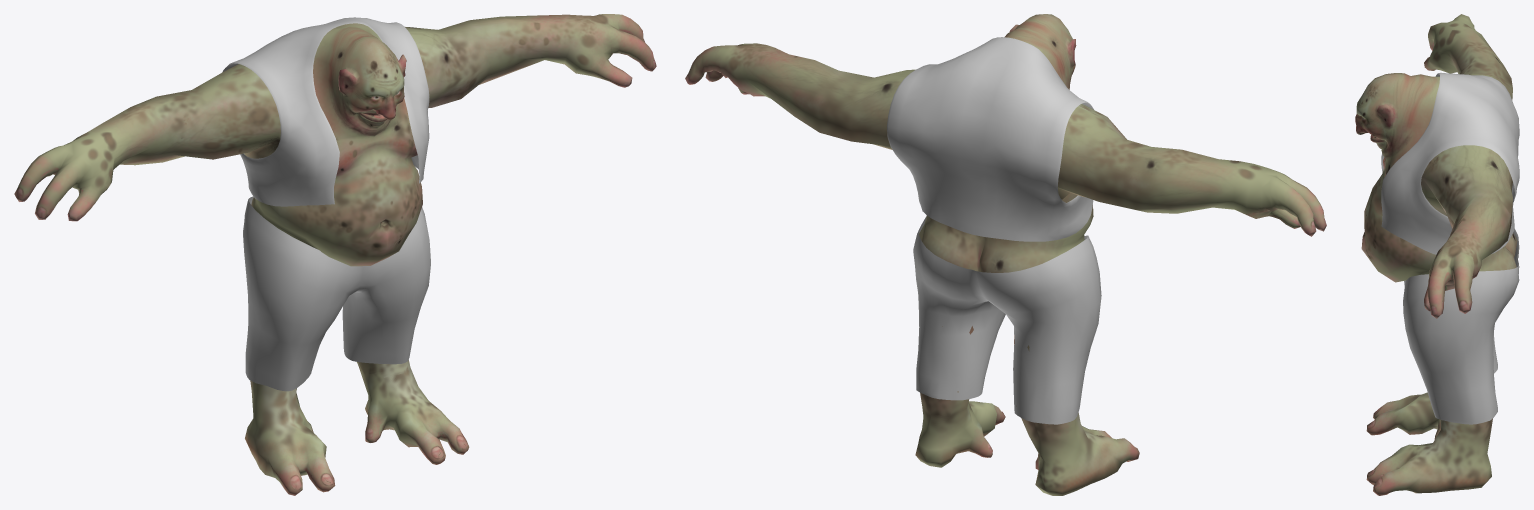
The model's file is Bridge Troll Model.fbx.
3 views of the same model, side by side, from view 1: azimuth 30°, elevation 25°; view 2: azimuth 150°, elevation 25°; view 3: azimuth 270°, elevation 25° (orthographic). The views are drawn at different scales.
Parts seen in each view (by area): view 1: Body, Pants LP, Vest LP; view 2: Body, Vest LP, Pants LP; view 3: Body, Pants LP, Vest LP.
Part boxes in pixels (x1,y1,x2,y2): Body: (14,14,656,495); Pants LP: (243,196,430,391); Vest LP: (222,17,429,206); Body: (685,14,1326,495); Vest LP: (887,37,1093,241); Pants LP: (913,216,1101,424); Body: (1355,14,1517,495); Pants LP: (1403,228,1519,424); Vest LP: (1381,72,1519,254).
Bounding box in the file's own units: 399 × 260 × 101.
